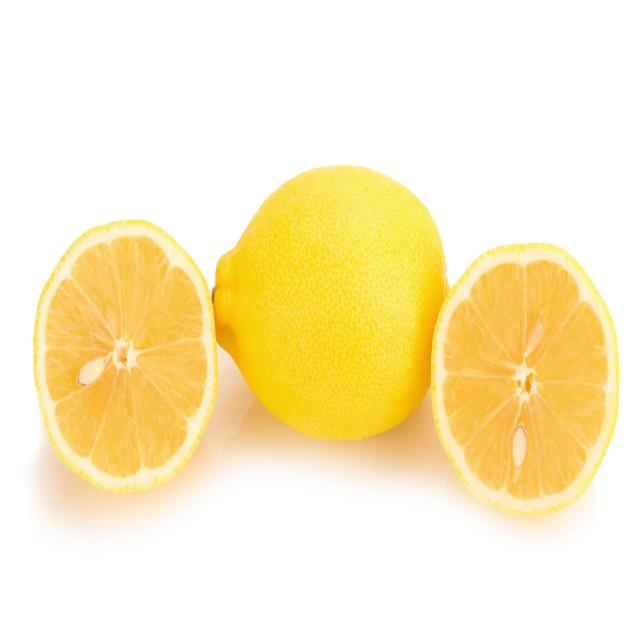lemon: (205, 157, 463, 453), (420, 232, 623, 530), (28, 203, 217, 508)
